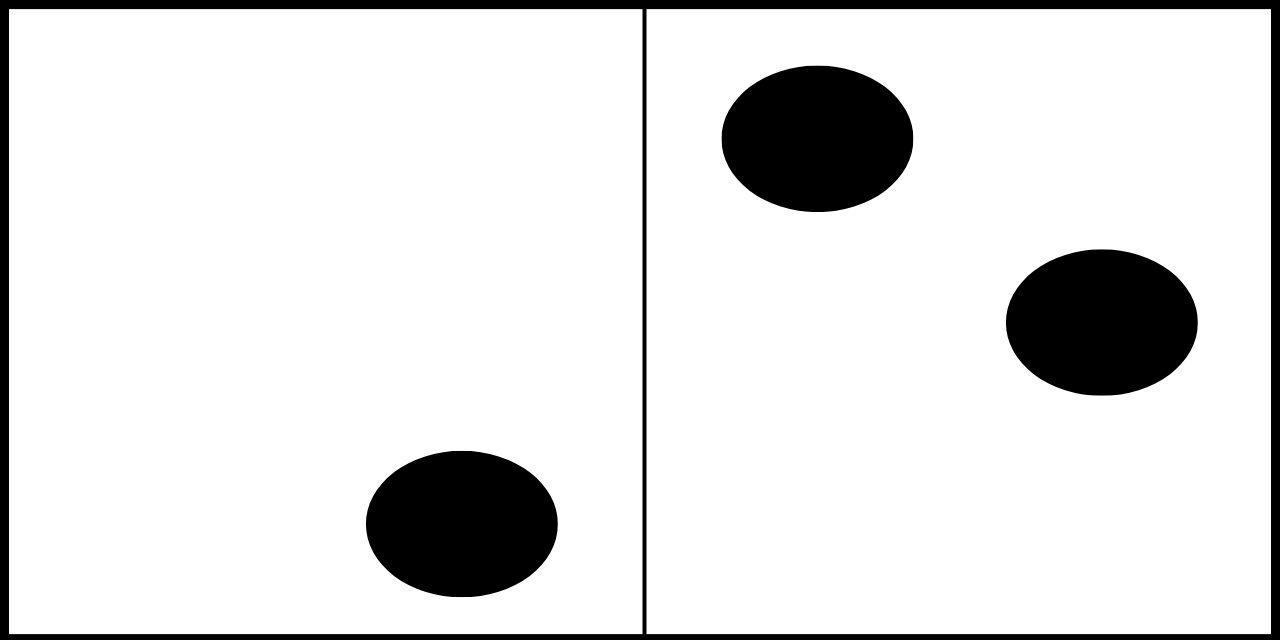capital_sign: (87, 65, 560, 598)
letter_E: (717, 65, 1198, 585)
